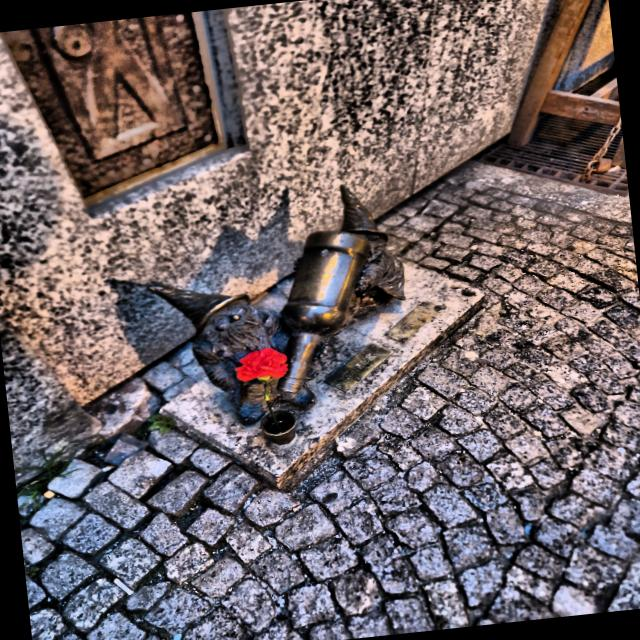Ogorzalek_i_Opilek: (149, 186, 405, 423)
